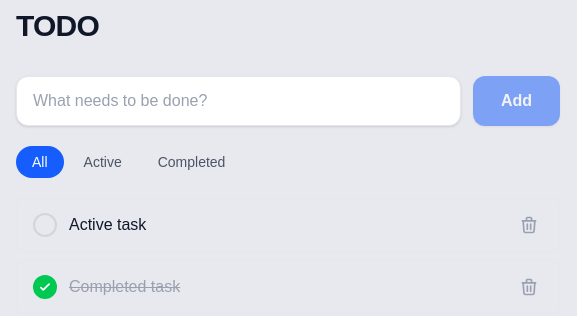
it: Home page › filters to show only active todos when Active filter is clicked
What coordinates should you click on to do the following:
click the button "Active"
I would click on:
 (103, 162)
Its box is [68,146,138,178].
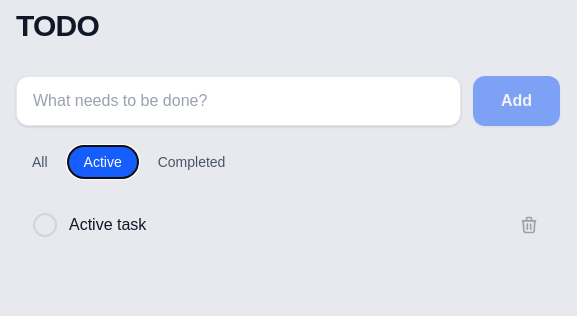
Expected: the text "Active task" is shown, [69,216,146,233]
Expected: the text "Completed task" is gone
